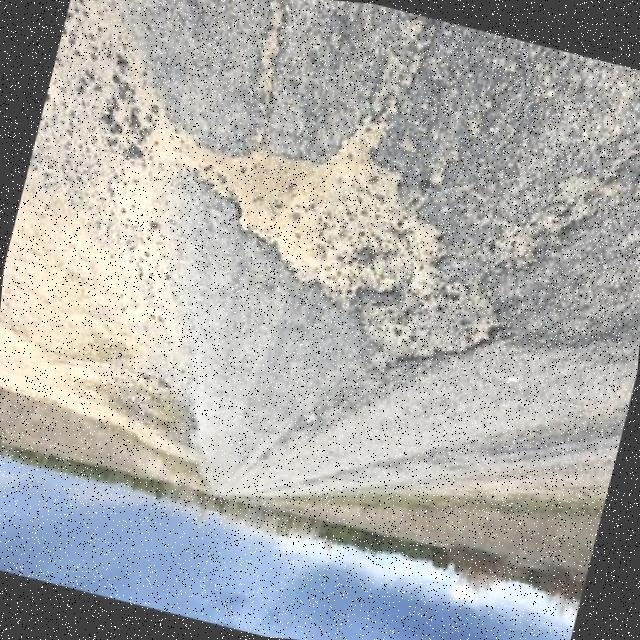Pothole: (201, 128, 506, 370)
